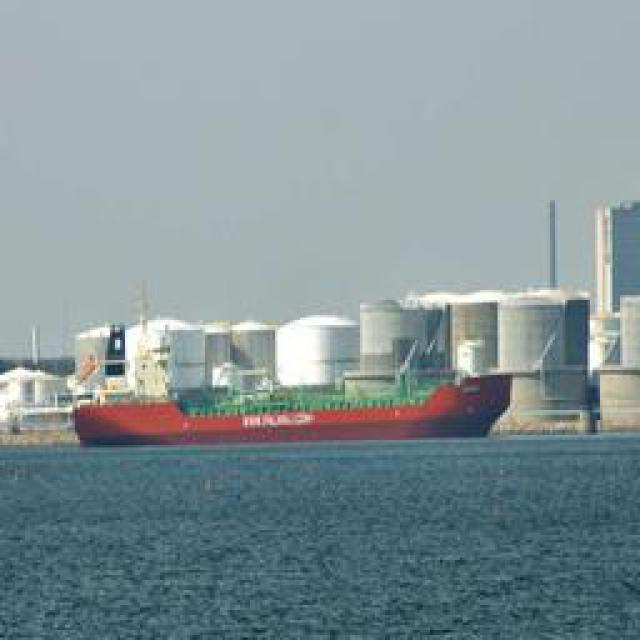Ship: (71, 292, 526, 450)
